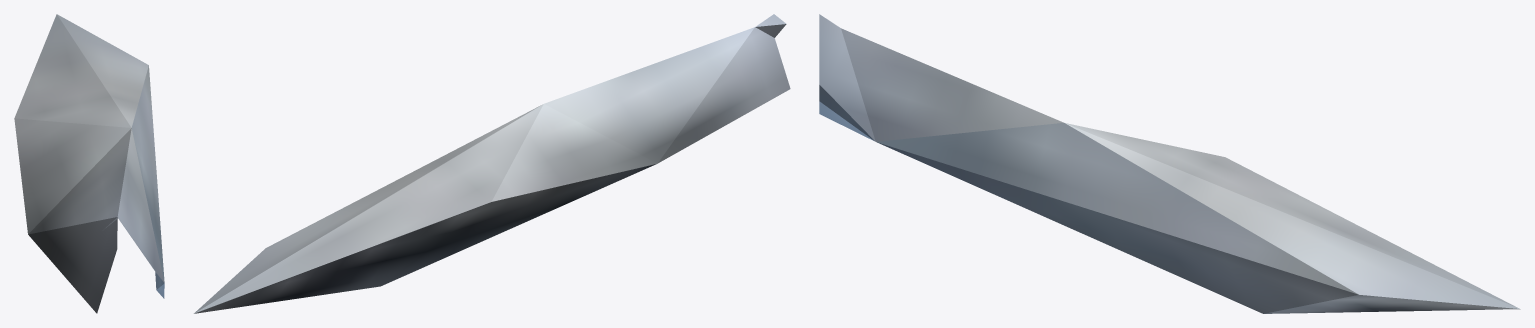
The picture shows the model from 3 angles, left to right: view 1: azimuth 30°, elevation 25°; view 2: azimuth 150°, elevation 25°; view 3: azimuth 270°, elevation 25°; orthographic projection. The views are drawn at different scales.
Size of the model in its own units: 0.0744 by 0.0438 by 0.1433.
1 material, 1 textured.
